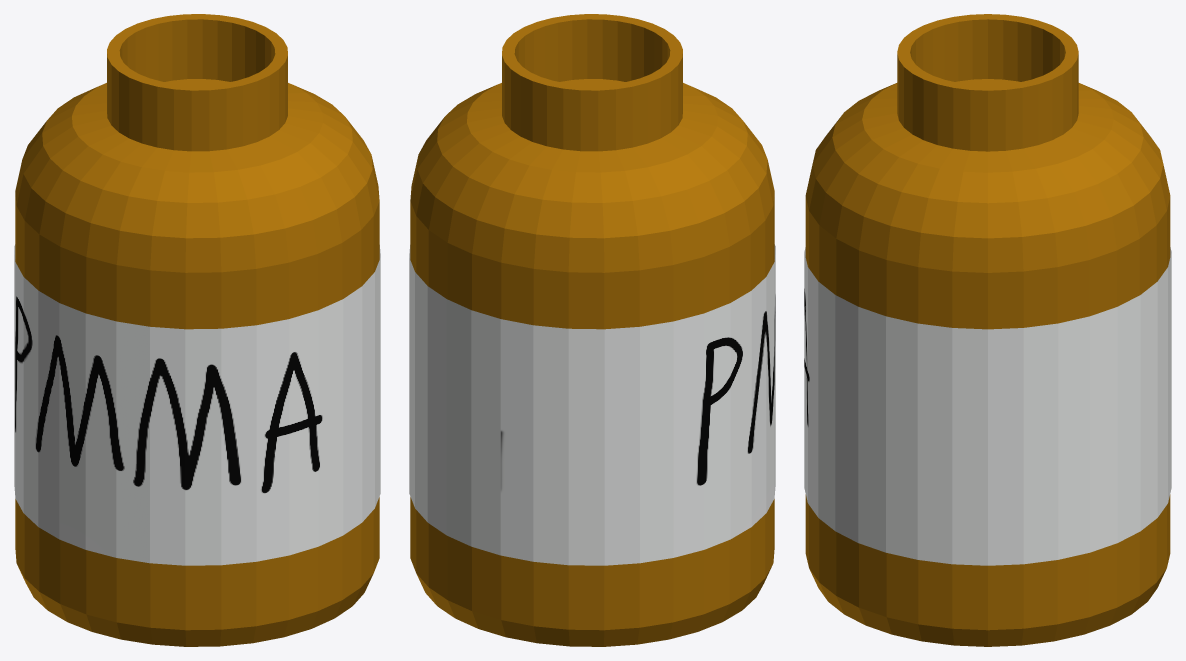
File: bottle_PMMA.fbx
3 views of the same model, side by side, from view 1: azimuth 30°, elevation 25°; view 2: azimuth 150°, elevation 25°; view 3: azimuth 270°, elevation 25° (orthographic).
Visible parts, largest first — view 1: Cylinder, Cylinder.002; view 2: Cylinder, Cylinder.002; view 3: Cylinder, Cylinder.002.
Part boxes in pixels (x1,y1,x2,y2): Cylinder: (15, 14, 379, 646); Cylinder.002: (14, 244, 380, 565); Cylinder: (410, 14, 774, 646); Cylinder.002: (409, 244, 775, 565); Cylinder: (805, 14, 1170, 646); Cylinder.002: (804, 247, 1171, 565).
Size of the model in its own units: 7.64 by 12.17 by 7.64.
2 materials, 1 textured.
